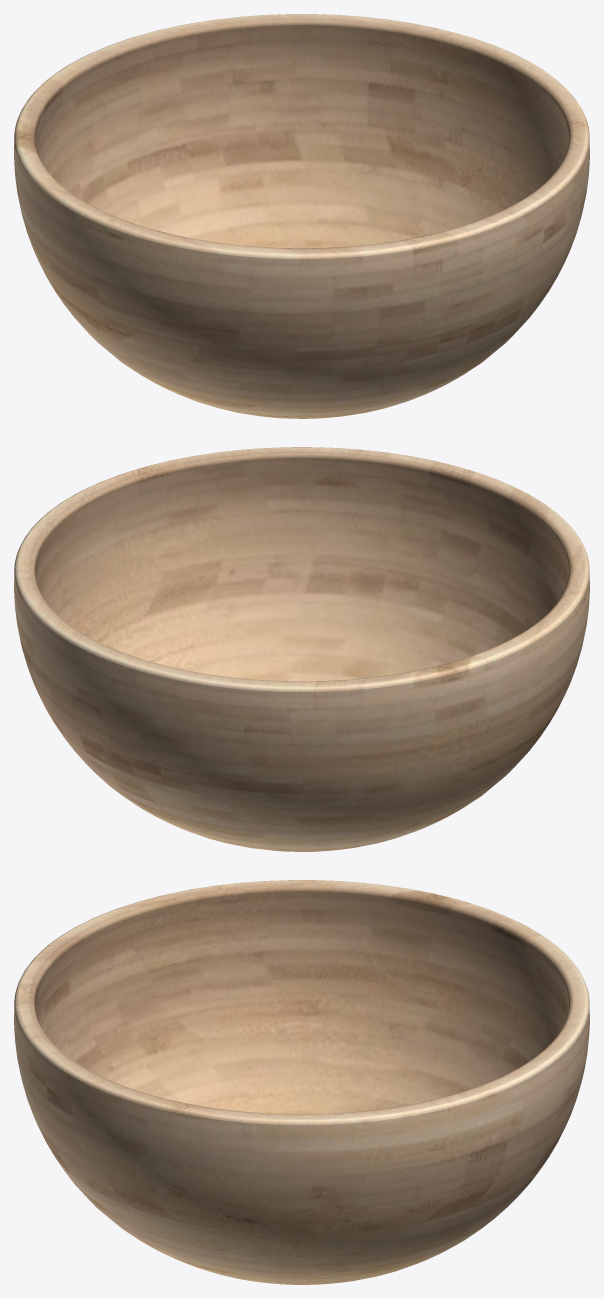
The model's file is blanda_matt_miska_60214343.glb.
The picture shows the model from 3 angles, top to bottom: view 1: azimuth 30°, elevation 25°; view 2: azimuth 150°, elevation 25°; view 3: azimuth 270°, elevation 25°; orthographic projection.
Parts seen in each view (by area): view 1: blanda_matt_miska_60214343; view 2: blanda_matt_miska_60214343; view 3: blanda_matt_miska_60214343.
Part boxes in pixels (box(x1,y1,x2,y2)): blanda_matt_miska_60214343: box(14, 14, 589, 418); blanda_matt_miska_60214343: box(14, 447, 589, 851); blanda_matt_miska_60214343: box(14, 880, 589, 1284).
Bounding box in the file's own units: 0.2799 × 0.13 × 0.2799.
1 material, 1 textured.
